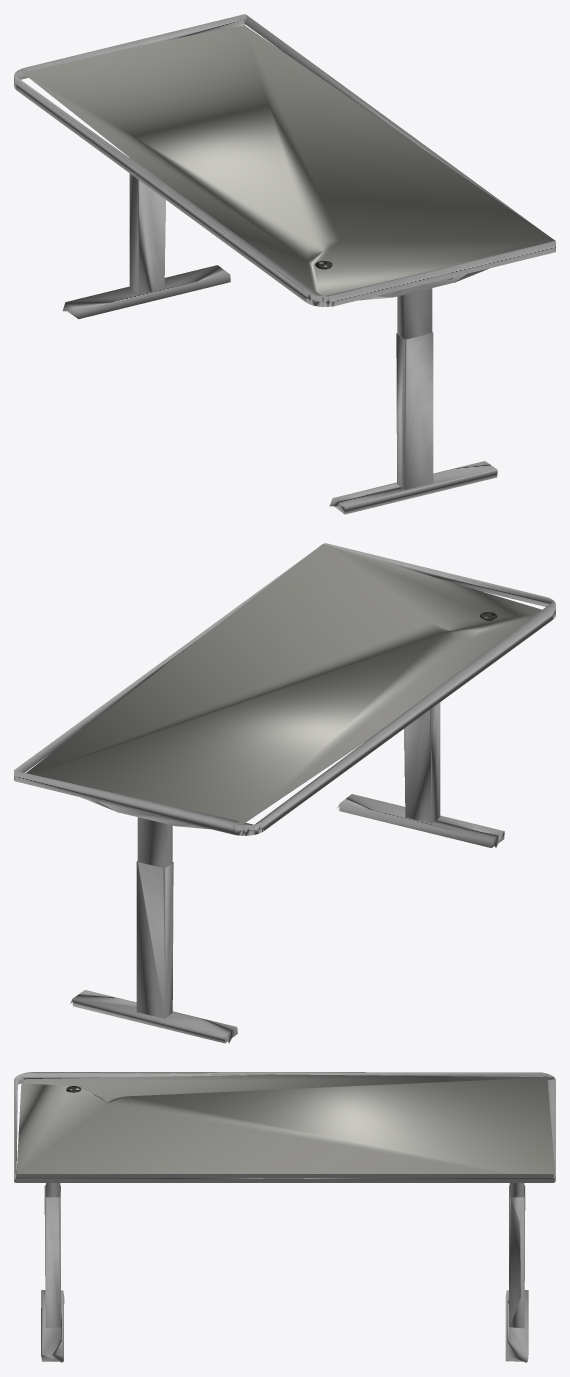
The model's file is desk.glb.
3 views of the same model, one above another, from view 1: azimuth 30°, elevation 25°; view 2: azimuth 150°, elevation 25°; view 3: azimuth 270°, elevation 25° (orthographic). The views are drawn at different scales.
Visible parts, largest first — view 1: body; view 2: body; view 3: body.
Part boxes in pixels (x1=…): body: x1=14, y1=14, x2=555, y2=514; body: x1=14, y1=543, x2=555, y2=1043; body: x1=14, y1=1072, x2=555, y2=1362.
Bounding box in the file's own units: 0.8018 × 0.7591 × 1.8.
3 materials, 3 textured.
